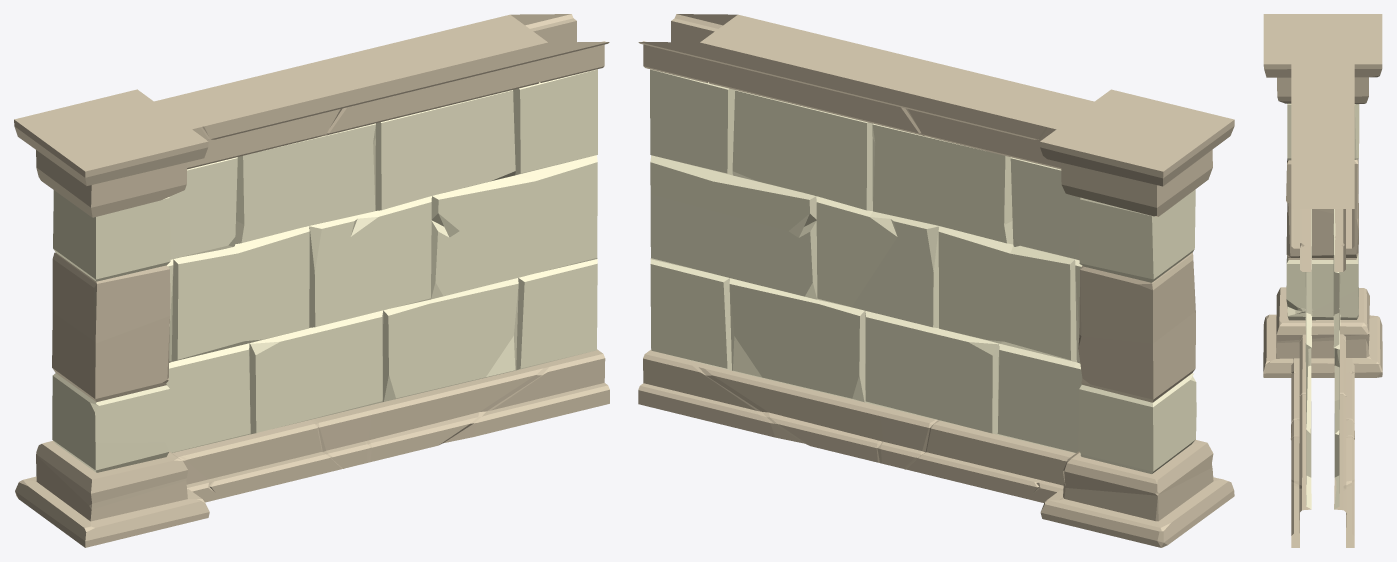
File: SM_SM_Peller_01.013.fbx
3 renders of one model, left to right at view 1: azimuth 30°, elevation 25°; view 2: azimuth 150°, elevation 25°; view 3: azimuth 270°, elevation 25°, orthographic. The views are drawn at different scales.
Parts seen in each view (by area): view 1: SM_Peller_01.013; view 2: SM_Peller_01.013; view 3: SM_Peller_01.013.
Part boxes in pixels (x1,y1,x2,y2): SM_Peller_01.013: (14,14,609,547); SM_Peller_01.013: (638,14,1234,547); SM_Peller_01.013: (1263,14,1382,547).
Bounding box in the file's own units: 452 × 300 × 104.
